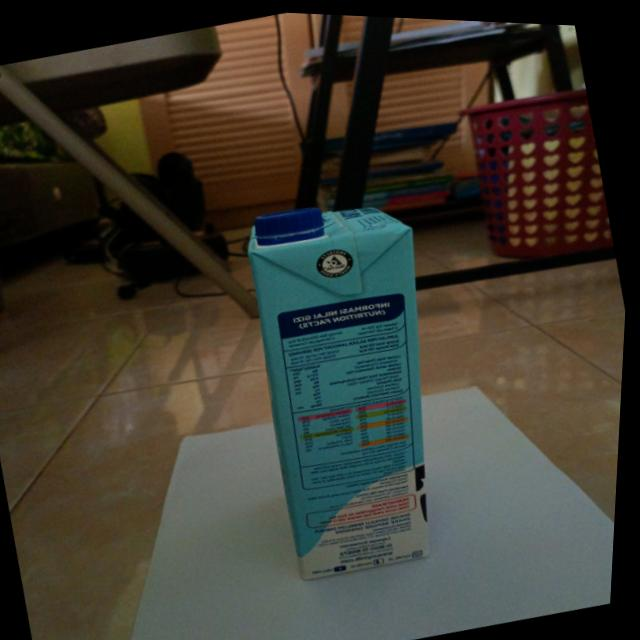indomie-mie-kocok-bandung: (223, 176, 491, 587)
